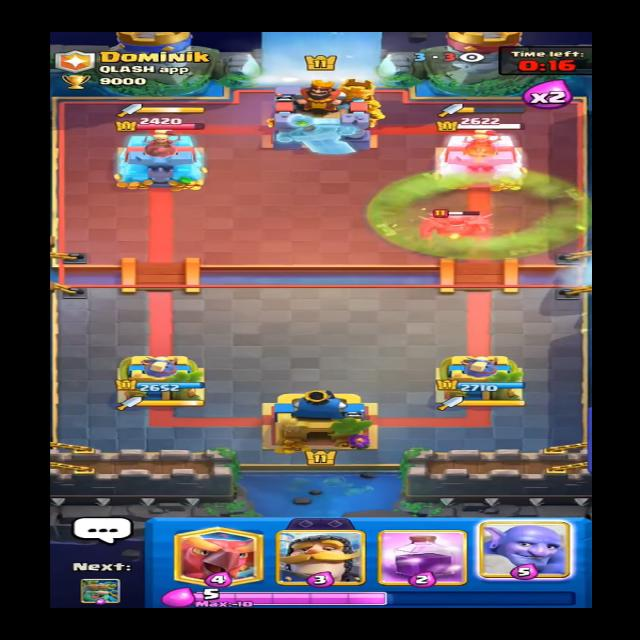pekka: (417, 205, 499, 243)
